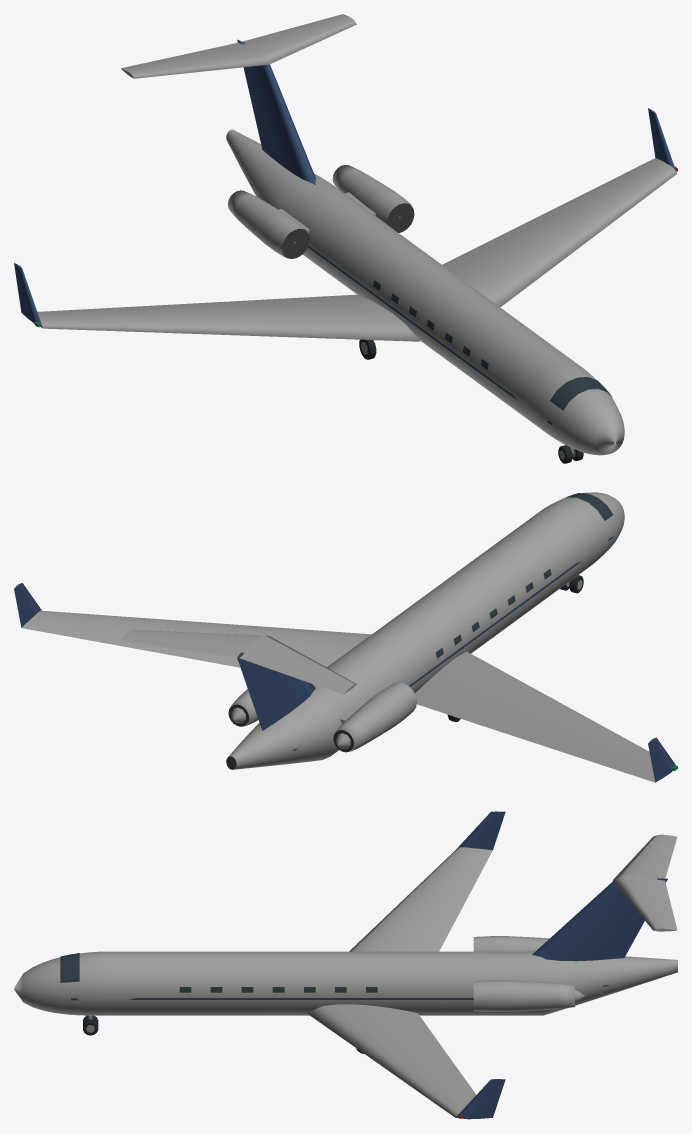
Rendered from bizjet.glb.
3 views of the same model, one above another, from view 1: azimuth 30°, elevation 25°; view 2: azimuth 150°, elevation 25°; view 3: azimuth 270°, elevation 25° (orthographic). The views are drawn at different scales.
Parts seen in each view (by area): view 1: paint-body, trim-body, fan-body, glass-body; view 2: paint-body, trim-body, glass-body, fan-body; view 3: paint-body, trim-body, glass-body.
Part boxes in pixels (x1,y1,x2,y2): paint-body: (37, 14, 676, 455); trim-body: (14, 39, 676, 424); fan-body: (282, 203, 414, 258); glass-body: (373, 280, 612, 410); paint-body: (22, 492, 655, 782); trim-body: (14, 536, 675, 782); glass-body: (435, 493, 613, 658); fan-body: (226, 704, 353, 769); paint-body: (14, 834, 677, 1117); trim-body: (71, 811, 667, 1119); glass-body: (60, 953, 377, 992).
Size of the model in its own units: 19.55 by 5.35 by 20.3.
